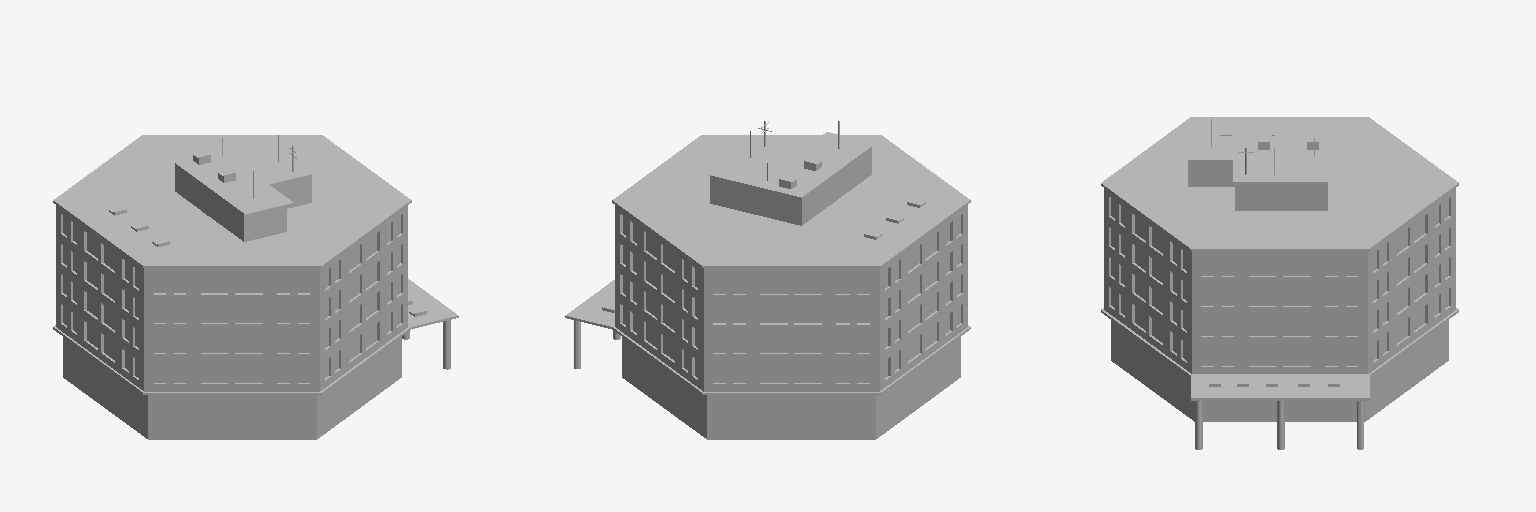
File: buildings.obj
The picture shows the model from 3 angles: view 1: azimuth 30°, elevation 25°; view 2: azimuth 150°, elevation 25°; view 3: azimuth 270°, elevation 25°; orthographic projection.
Visible parts, largest first — view 1: Plane.041_Plane.052, Cube.042_Cube.041, Cylinder.003, Plane.047_Plane.057, Plane.054_Plane.058; view 2: Plane.041_Plane.052, Cube.042_Cube.041, Cylinder.003, Plane.047_Plane.057, Plane.054_Plane.058; view 3: Plane.041_Plane.052, Cube.042_Cube.041, Cylinder.003, Plane.047_Plane.057, Plane.054_Plane.058.
Part boxes in pixels (left/top/right/bottom): Plane.041_Plane.052: left=56, top=205, right=407, bottom=391; Cube.042_Cube.041: left=53, top=135, right=458, bottom=394; Cylinder.003: left=63, top=163, right=450, bottom=439; Plane.047_Plane.057: left=72, top=135, right=427, bottom=429; Plane.054_Plane.058: left=172, top=137, right=314, bottom=214; Plane.041_Plane.052: left=615, top=205, right=967, bottom=391; Cube.042_Cube.041: left=565, top=135, right=970, bottom=394; Cylinder.003: left=574, top=147, right=960, bottom=439; Plane.047_Plane.057: left=600, top=121, right=950, bottom=432; Plane.054_Plane.058: left=707, top=132, right=874, bottom=197; Plane.041_Plane.052: left=1104, top=188, right=1455, bottom=373; Cube.042_Cube.041: left=1101, top=117, right=1458, bottom=400; Cylinder.003: left=1111, top=160, right=1448, bottom=449; Plane.047_Plane.057: left=1117, top=119, right=1439, bottom=421; Plane.054_Plane.058: left=1183, top=136, right=1330, bottom=181.
Bounding box in the file's own units: 7.9 × 5.69 × 7.76.